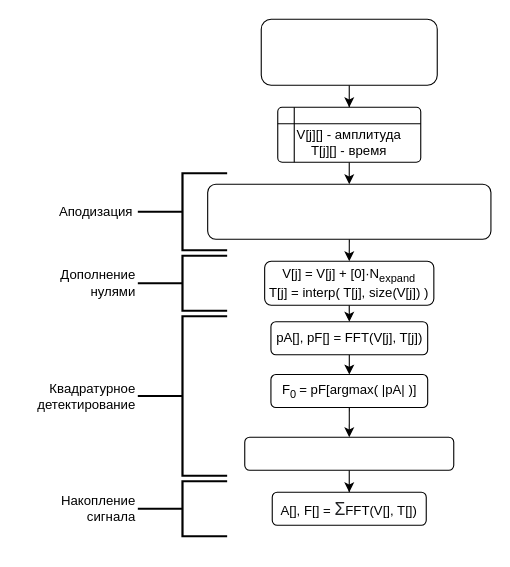
The diagram is 510 pixels wide and 567 high, and some of its shapes have lost their labels. Here are the shapes that lost their labels. From the top down, the centre of each, then its label:
At point 348,51: "Входные данные: массив последовательно записанных сигналов".
At point 349,211: "a = acos(2/3) V[j][k] = V[j][k] * cos( T[k]·(PI + 2a)/2T[k] max - a)".
At point 349,453: "V[j][k] = V[j][k] * exp(i · 2PI · F 0 · T[j][k])".
